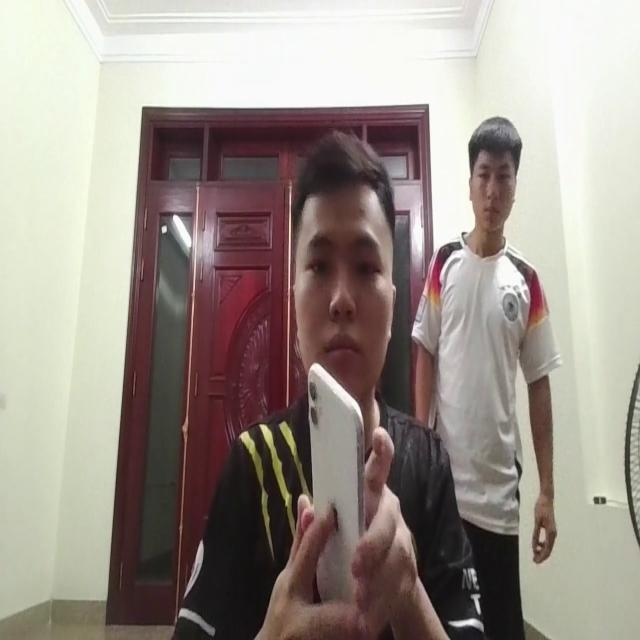extra_person: (426, 110, 556, 554)
phone: (296, 349, 368, 592)
student: (179, 111, 455, 640)
